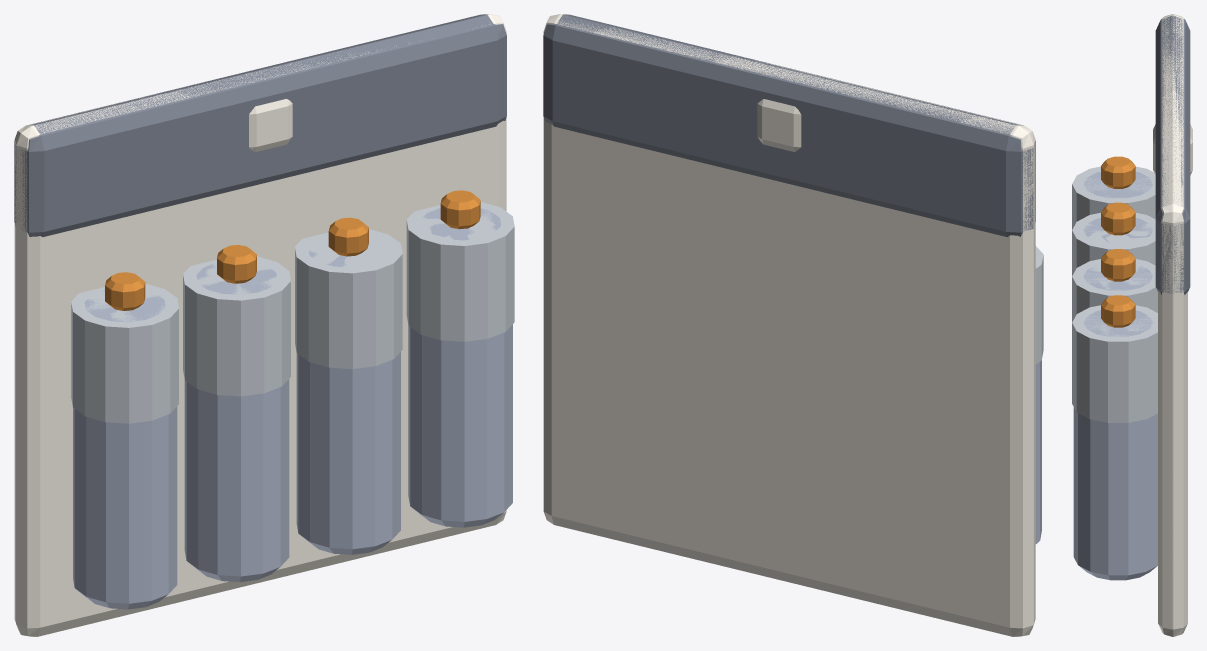
Rendered from battery.glb.
The picture shows the model from 3 angles, left to right: view 1: azimuth 30°, elevation 25°; view 2: azimuth 150°, elevation 25°; view 3: azimuth 270°, elevation 25°; orthographic projection. The views are drawn at different scales.
Parts seen in each view (by area): view 1: battery; view 2: battery; view 3: battery.
Part boxes in pixels (x1,y1,x2,y2): battery: (14, 14, 514, 636); battery: (543, 14, 1043, 636); battery: (1072, 14, 1192, 636).
Bounding box in the file's own units: 0.96 × 0.96 × 0.243.
